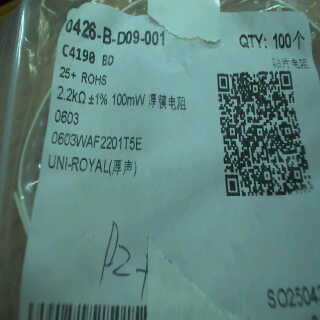2.2kR: (55, 81, 86, 108)
